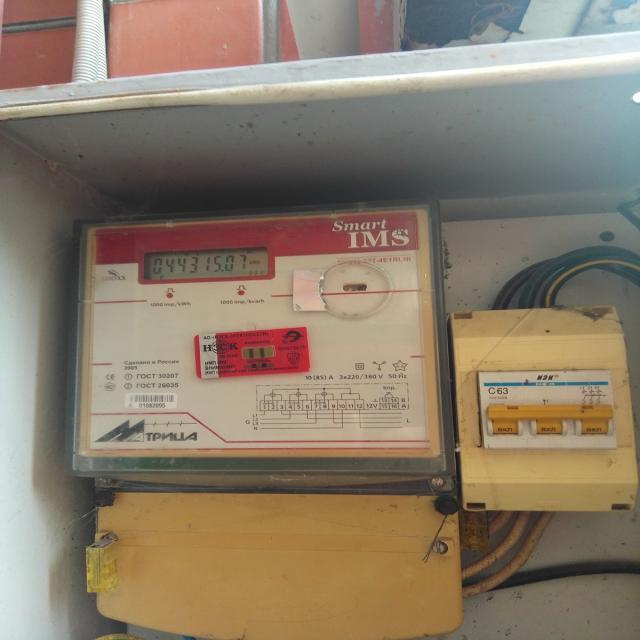Display: (139, 249, 272, 281)
meter_matrica: (77, 203, 439, 503)
meter_number: (122, 391, 182, 412)
seal_imp: (193, 327, 313, 381)
